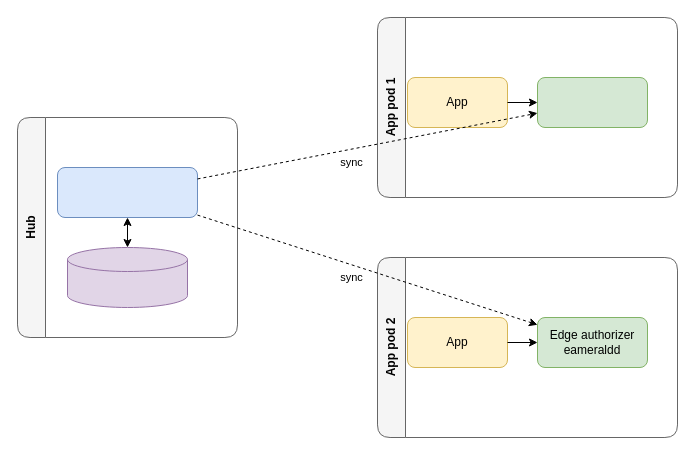
The diagram is 695 pixels wide and 455 high, and some of its shapes have lost their labels. The centre of each missing label's shape, as x and y in pixels:
"Edge authorizer (eameraldd)" belongs at point (592, 102).
"Hub directory" belongs at point (127, 192).
"Postgres" belongs at point (127, 277).
